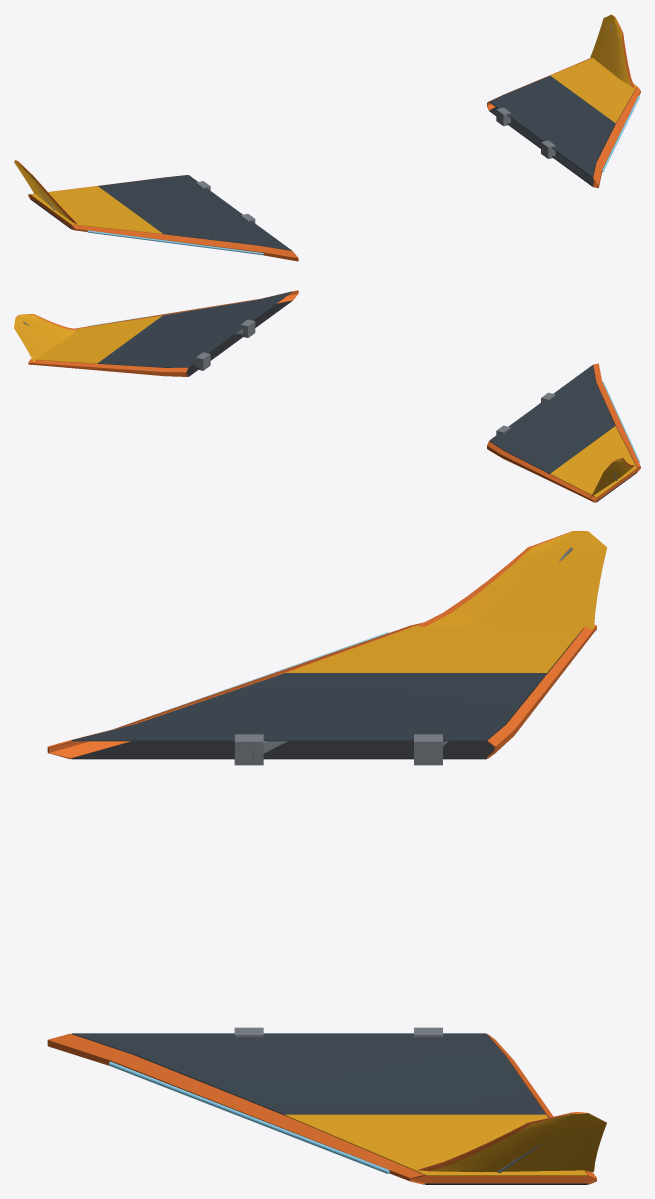
Rendered from bastion_wing_glide.fbx.
3 renders of one model, top to bottom at view 1: azimuth 30°, elevation 25°; view 2: azimuth 150°, elevation 25°; view 3: azimuth 270°, elevation 25°, orthographic. The views are drawn at different scales.
Parts seen in each view (by area): view 1: Wing_Top_L.001, Wing_Top_R.001, Wing_Glide_Extra_R, Wing_LE_L.001, Wing_Glide_Extra_L, Wing_LE_R.001, Wing_Bottom_R.001, Wing_Structure_R.001; view 2: Wing_Top_L.001, Wing_Top_R.001, Wing_Glide_Extra_R, Wing_TE_R.001, Wing_TE_L.001, Wing_Glide_Extra_L, Wing_LE_L.001, Wing_Bottom_R.001, Wing_Structure_R.001, Wing_LE_R.001; view 3: Wing_Top_R.001, Wing_Top_L.001, Wing_Glide_Extra_L, Wing_Glide_Extra_R, Wing_Bottom_L.001, Wing_LE_R.001, Wing_Structure_L.001, Wing_LE_L.001, Wing_TE_L.001, Wing_Tip_R.001.
Boxes of the visible parts, x1,y1,x2,y2 form: Wing_Top_L.001: (31,175,291,250); Wing_Top_R.001: (489,58,636,177); Wing_Glide_Extra_R: (590,14,639,172); Wing_LE_L.001: (71,224,298,261); Wing_Glide_Extra_L: (14,160,263,254); Wing_LE_R.001: (593,86,640,187); Wing_Bottom_R.001: (489,90,634,186); Wing_Structure_R.001: (496,92,633,167); Wing_Top_L.001: (489,365,636,497); Wing_Top_R.001: (31,291,291,367); Wing_Glide_Extra_R: (14,307,203,362); Wing_TE_R.001: (28,359,188,376); Wing_TE_L.001: (487,441,596,502); Wing_Glide_Extra_L: (590,381,639,497); Wing_LE_L.001: (593,363,640,472); Wing_Bottom_R.001: (186,300,291,376); Wing_Structure_R.001: (194,319,255,370); Wing_LE_R.001: (75,290,298,328); Wing_Top_R.001: (72,1033,587,1175); Wing_Top_L.001: (71,624,584,741); Wing_Glide_Extra_L: (124,531,606,725); Wing_Glide_Extra_R: (108,1061,606,1173); Wing_Bottom_L.001: (71,639,575,759); Wing_LE_R.001: (47,1033,424,1184); Wing_Structure_L.001: (234,632,580,765); Wing_LE_L.001: (47,622,423,759); Wing_TE_L.001: (487,624,596,758); Wing_Tip_R.001: (411,1173,596,1184).
Bounding box in the file's own units: 477 × 34.55 × 194.
